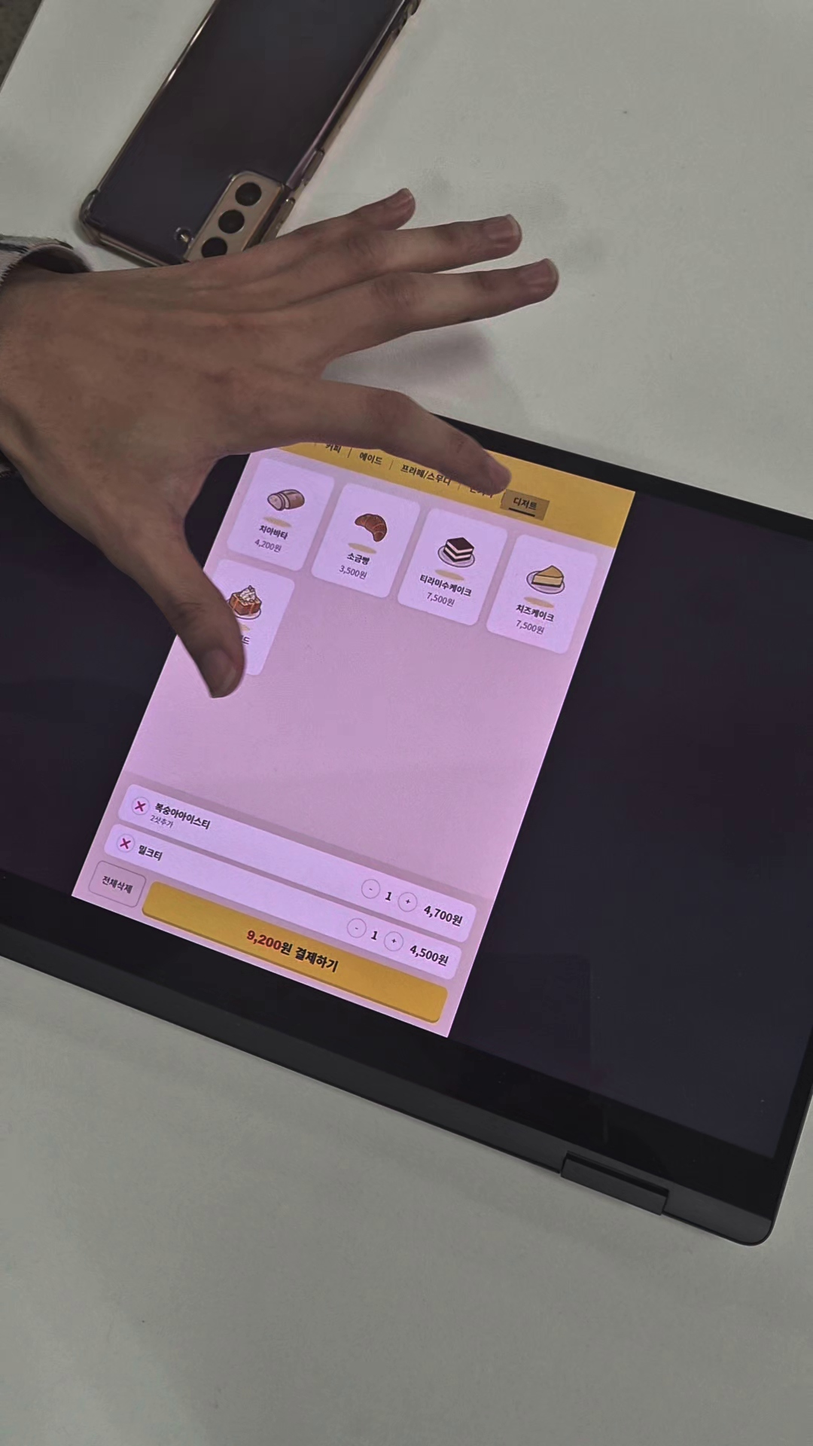action_button: (139, 879, 451, 1028), (82, 859, 149, 911)
cart_item: (111, 779, 481, 948), (98, 819, 466, 985)
category_tab: (395, 461, 458, 492), (353, 448, 390, 471)
menu_back: (483, 531, 602, 659), (395, 504, 511, 631), (307, 478, 423, 603), (222, 452, 339, 570)
menu_name: (150, 797, 215, 834), (414, 569, 475, 601), (511, 599, 559, 627), (133, 840, 167, 866), (255, 520, 291, 543), (340, 547, 374, 569)
menu_price: (241, 925, 296, 961), (422, 902, 467, 931), (407, 942, 454, 969), (512, 615, 548, 638), (248, 534, 285, 556), (334, 561, 371, 583), (421, 589, 458, 611)
